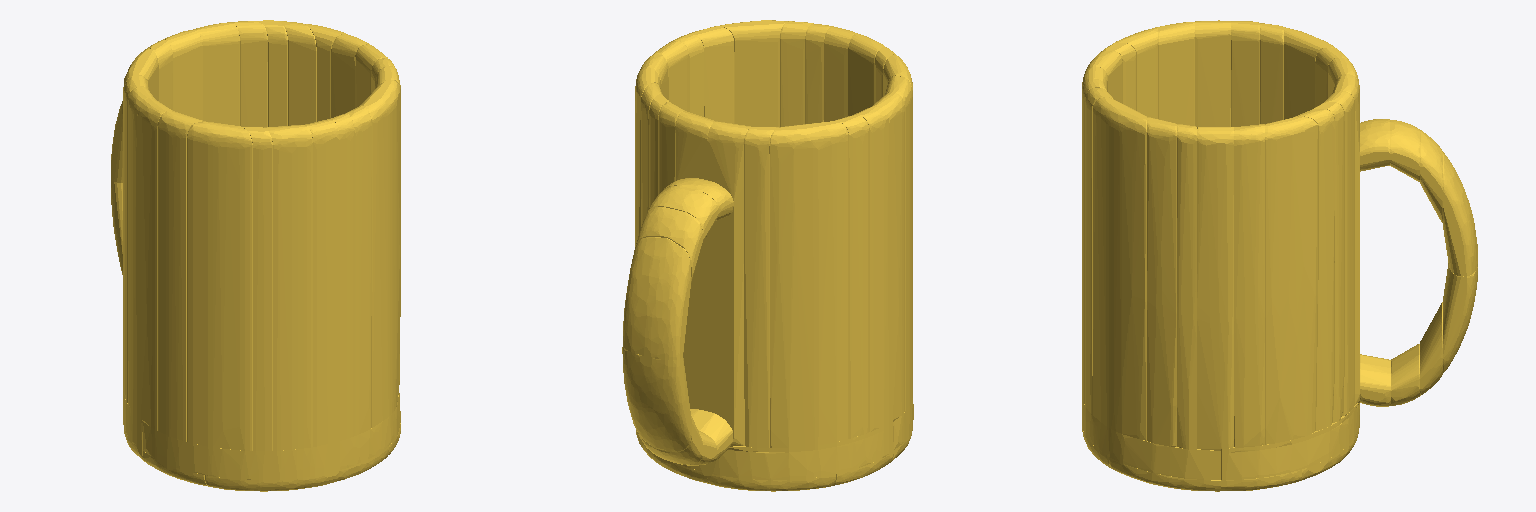
URDF robot description (997.urdf):
<?xml version="1.0" ?>
<robot name="997.urdf">
	<link name="baseLink">
		<inertial>
			<origin rpy="0 0 0" xyz="0 0 0"/>
				<mass value="0.1"/>
				<inertia ixx="6e-5" ixy="0" ixz="0" iyy="6e-5" iyz="0" izz="6e-5"/>
		</inertial>
		<visual>
			<origin rpy="0 0 0" xyz="0 0 0"/>
			<geometry>
				<mesh filename="38_decom_wt.obj" scale="0.87 0.87 1.10"/>
			</geometry>
			<material name="yellow">
				<color rgba="0.98 0.84 0.35 1"/>
			</material>
		</visual>
		<collision>
			<origin rpy="0 0 0" xyz="0 0 0"/>
			<geometry>
				<mesh filename="38_decom_wt.obj" scale="0.87 0.87 1.10"/>
			</geometry>
		</collision>
	</link>
</robot>

--- What the picture shows (computed from the rendered views, not written in the file) ---
The picture shows the robot from 3 angles, left to right: view 1: azimuth 30°, elevation 25°; view 2: azimuth 150°, elevation 25°; view 3: azimuth 270°, elevation 25°; orthographic projection.
Model 997.urdf with 1 links and 0 joints (none), rooted at baseLink, posed every joint at zero.
Visible links, largest first — view 1: baseLink; view 2: baseLink; view 3: baseLink.
Boxes of the visible links, <box> form: baseLink: <box>111,20,400,491</box>; baseLink: <box>622,20,913,491</box>; baseLink: <box>1082,20,1477,491</box>.
Size in the robot's own frame: 0.0836 by 0.1192 by 0.1201 metres.
1 mesh visuals loaded from 1 distinct referenced files (1 OBJ).